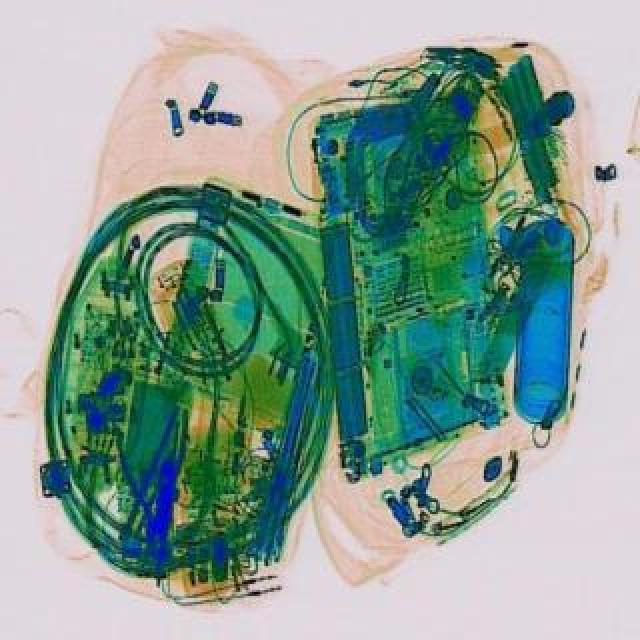wrench: (114, 410, 192, 570)
